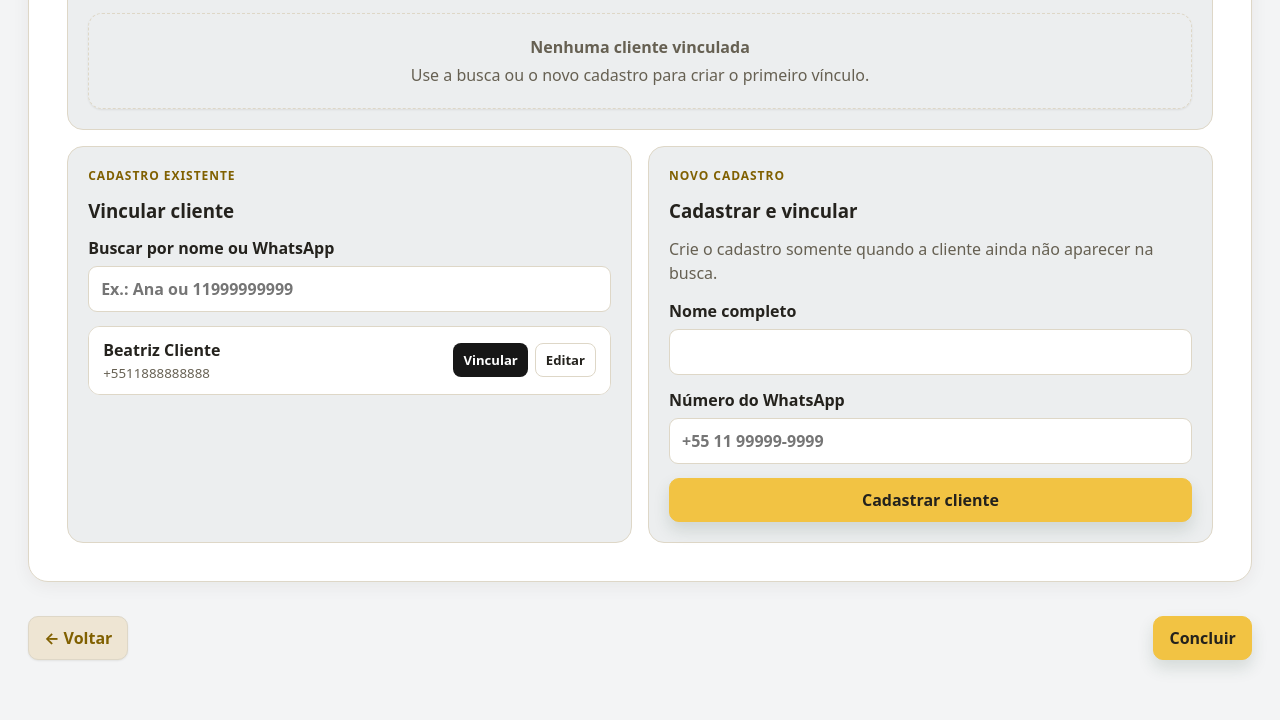
it: editor administrativo de galeria › bloqueia exclusão de cliente com histórico e orienta a edição
This screenshot has width=1280, height=720.
(page scrolled)
Click the button with aria-label "Editar cadastro de Beatriz Cliente" at (565, 360), box [535, 343, 596, 377]
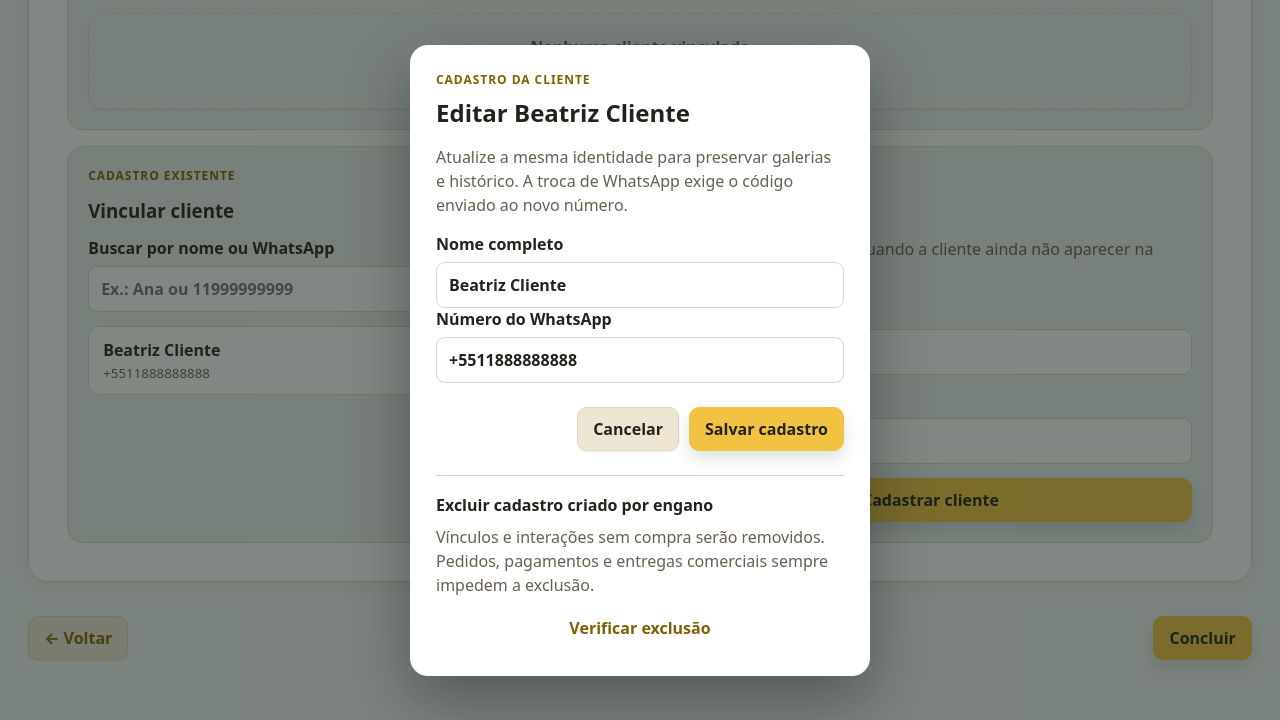
Click the button "Verificar exclusão" at (640, 628), box [436, 606, 844, 650]
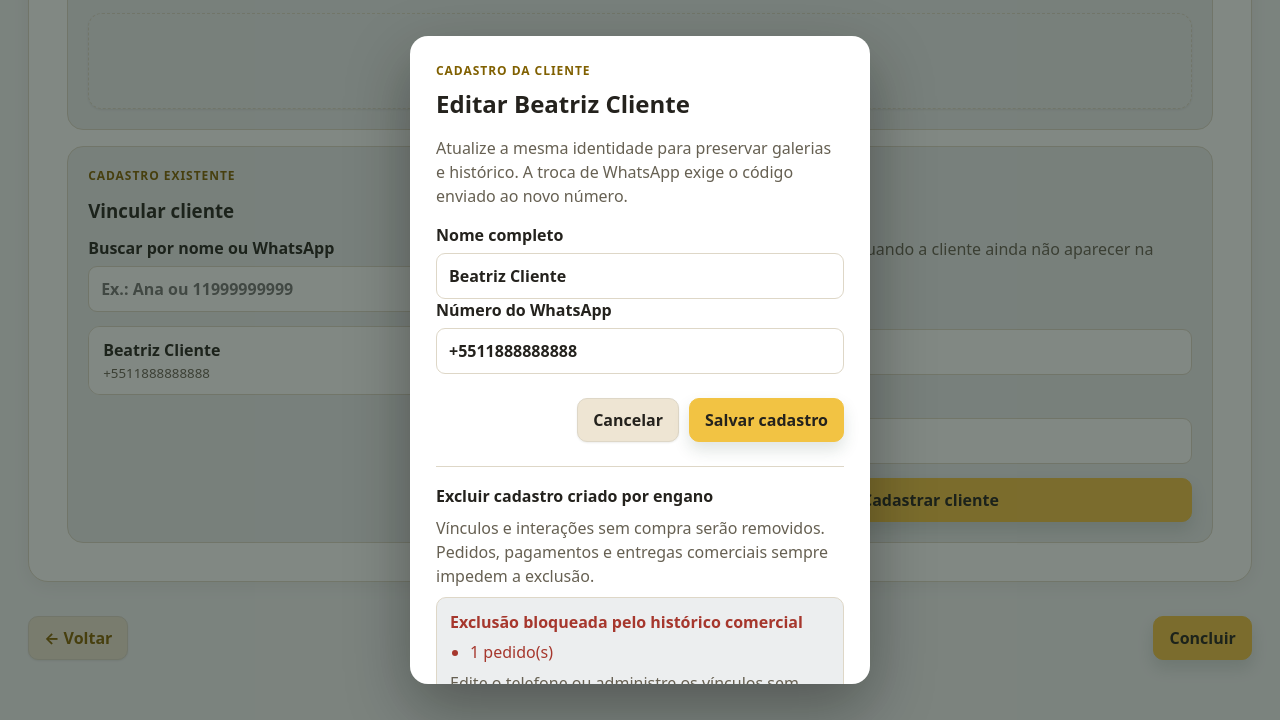
Expected: the text "Exclusão bloqueada pelo histórico comercial" is shown, [450, 611, 803, 633]
Expected: the list item "1 pedido(s)" is shown, [470, 641, 553, 663]
